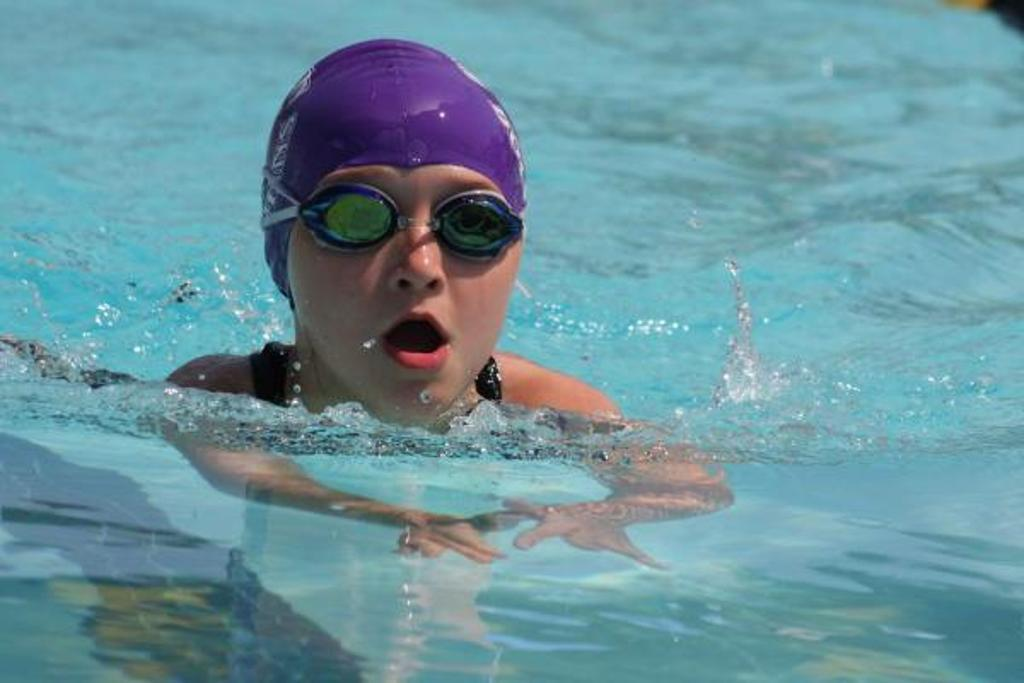face: (302, 136, 514, 412)
